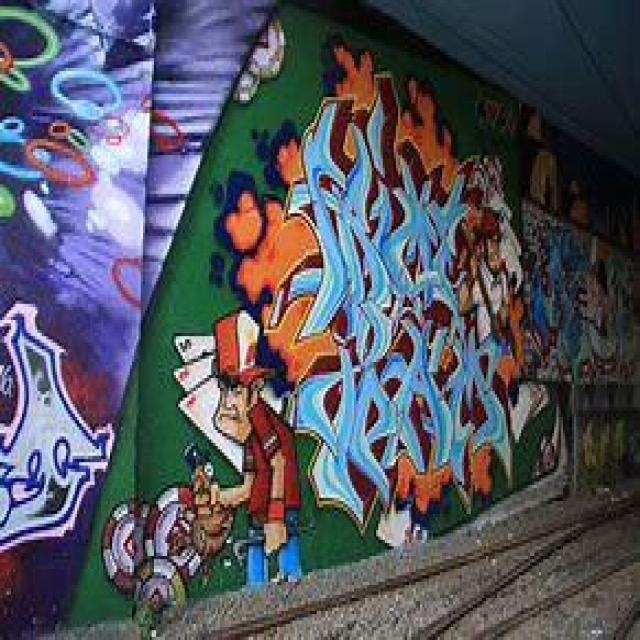nonspitting: (176, 32, 548, 542), (0, 0, 288, 559), (532, 216, 640, 388)
spitting: (103, 307, 304, 613)
